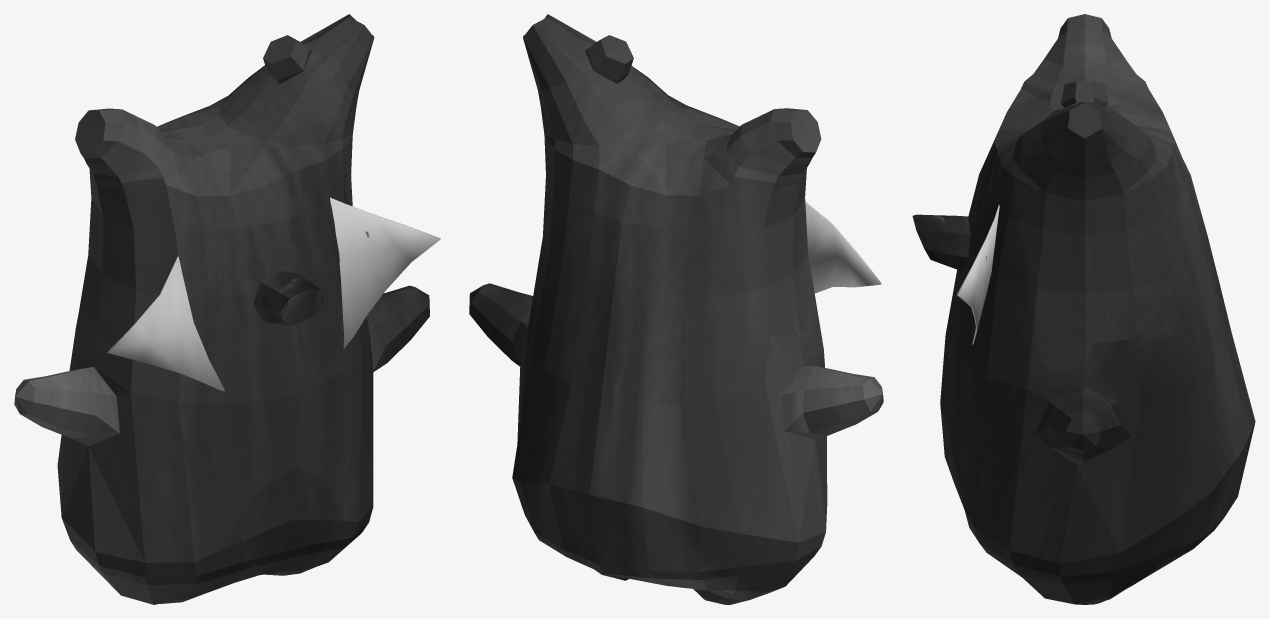
File: frame_0044.obj
3 renders of one model, left to right at view 1: azimuth 30°, elevation 25°; view 2: azimuth 150°, elevation 25°; view 3: azimuth 270°, elevation 25°, orthographic.
Visible parts, largest first — view 1: korok, leaf, nose; view 2: korok, leaf; view 3: korok, nose, leaf.
Boxes of the visible parts, x1,y1,x2,y2 form: korok: (14,14,429,604); leaf: (107,197,440,391); nose: (254,270,324,324); korok: (469,14,883,604); leaf: (805,202,881,293); korok: (940,14,1255,604); nose: (912,214,970,270); leaf: (956,205,999,344).
Size of the model in its own units: 1.75 by 2.18 by 1.27.
